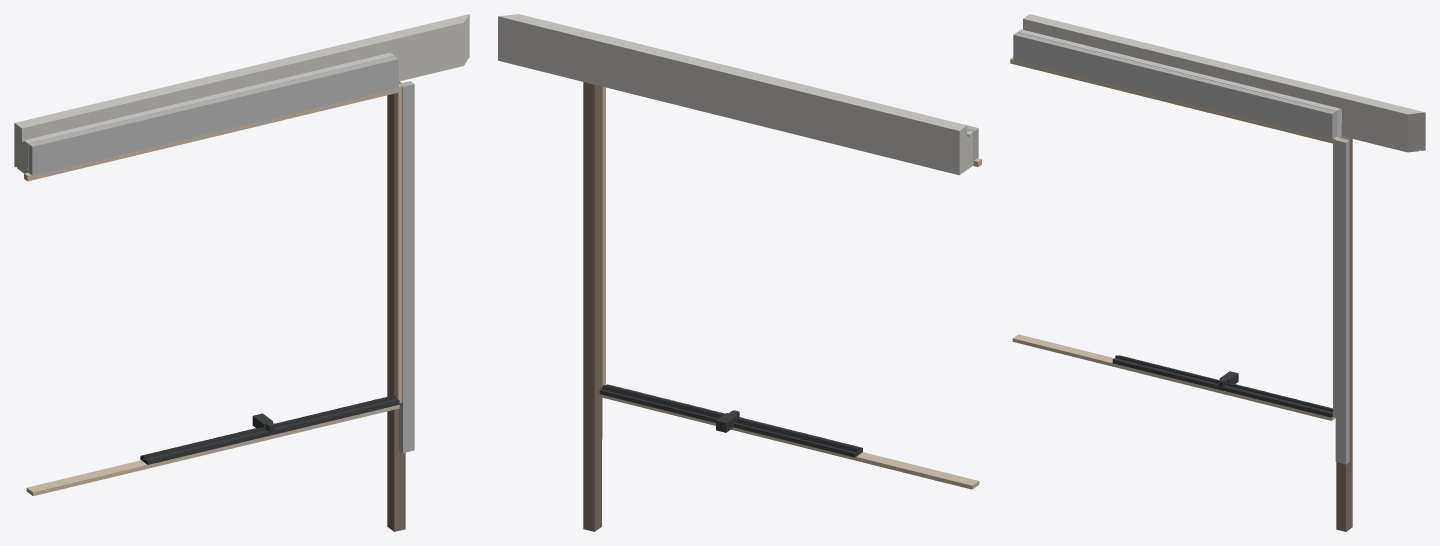
3 renders of one model, left to right at view 1: azimuth 30°, elevation 25°; view 2: azimuth 150°, elevation 25°; view 3: azimuth 330°, elevation 25°, orthographic. The views are drawn at different scales.
Size of the model in its own units: 4.06 by 4.13 by 0.316.
